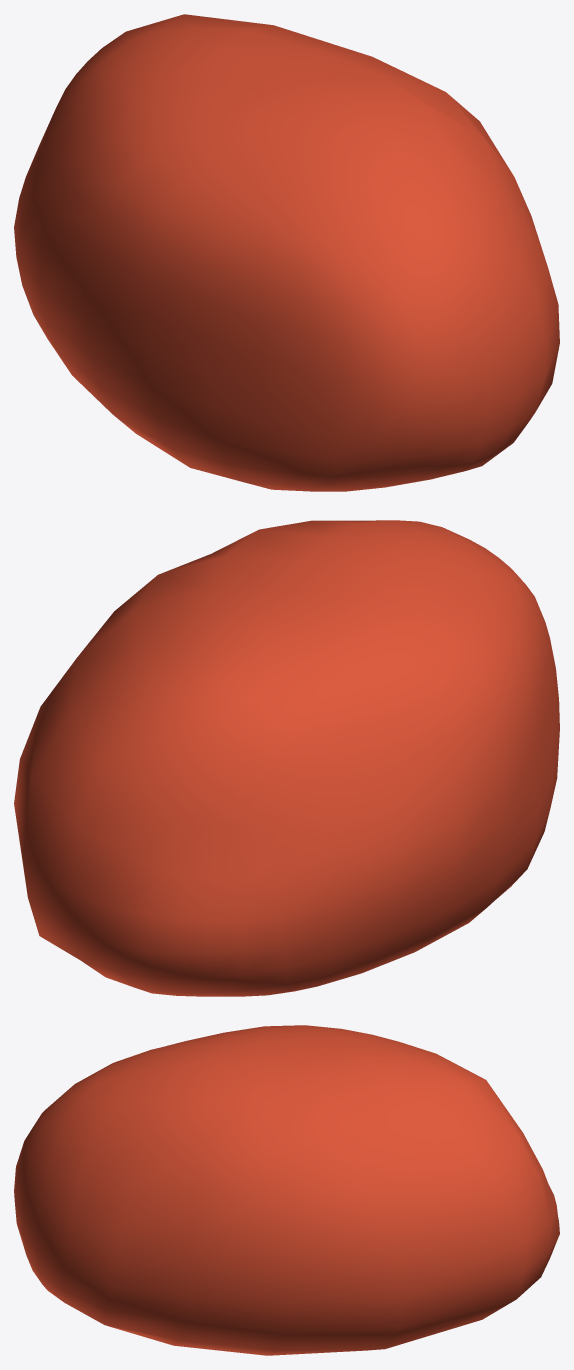
The model's file is Beef.fbx.
The picture shows the model from 3 angles, top to bottom: view 1: azimuth 30°, elevation 25°; view 2: azimuth 150°, elevation 25°; view 3: azimuth 270°, elevation 25°; orthographic projection. The views are drawn at different scales.
Visible parts, largest first — view 1: Beef; view 2: Beef; view 3: Beef.
Boxes of the visible parts, x1,y1,x2,y2 form: Beef: (14,14,559,491); Beef: (14,520,559,996); Beef: (14,1025,559,1355).
Size of the model in its own units: 15.53 by 11.9 by 22.96.
